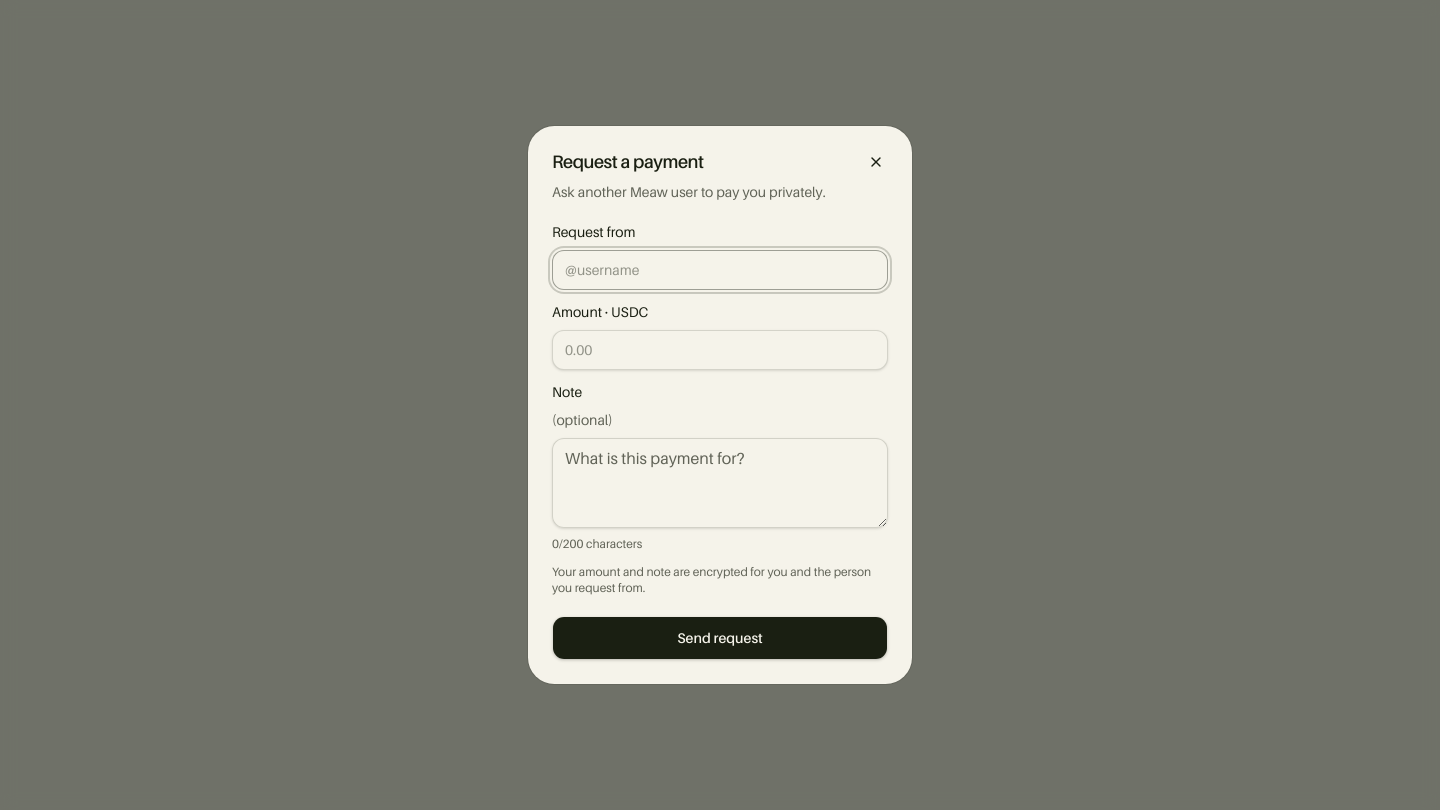
Test: request creation dialog › requires a positive fixed amount
Type "client" into the field labelled "Request from". click: (720, 270)
box: [552,250,888,290]
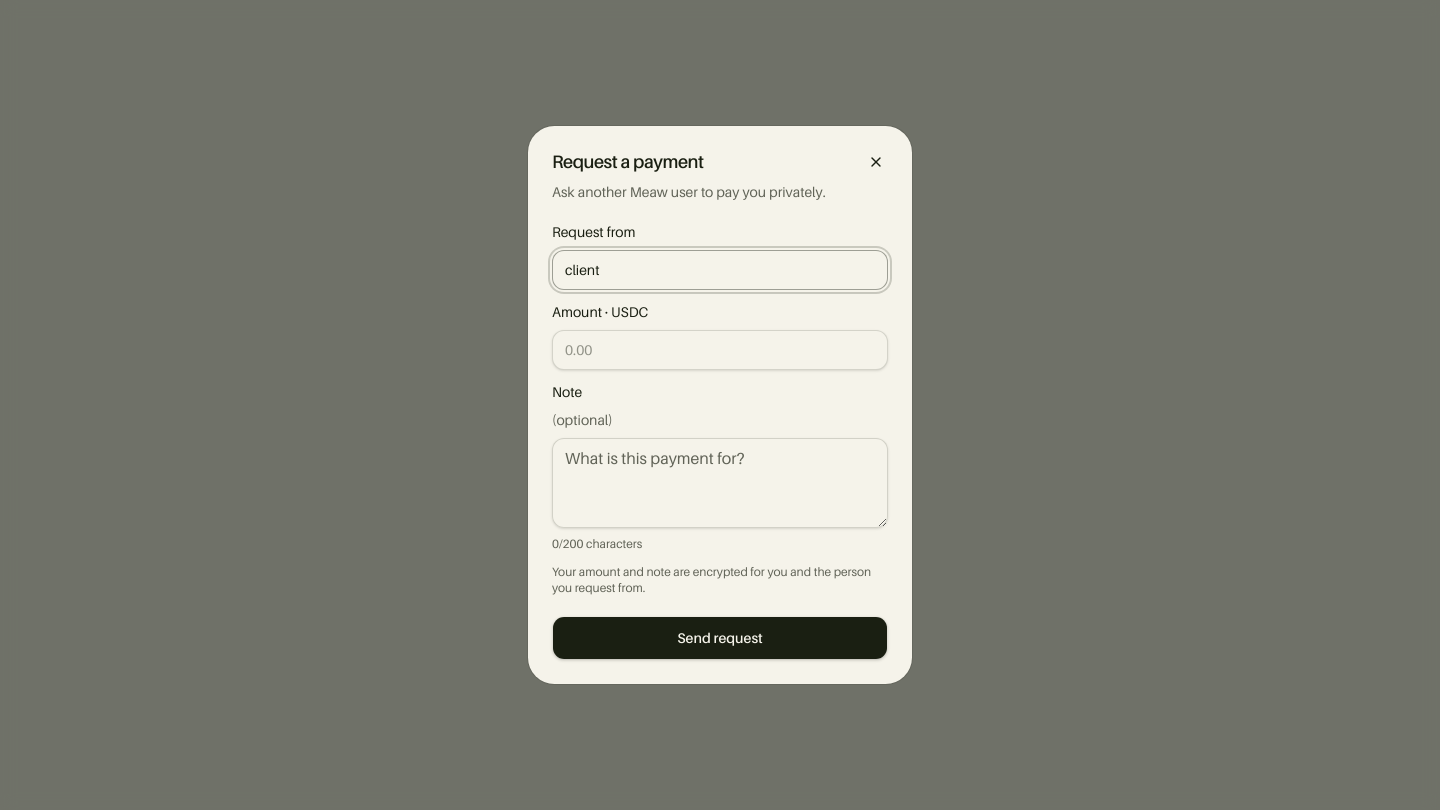
Type "0" into the field labelled "Amount · USDC". click: (720, 350)
box: [552,330,888,370]
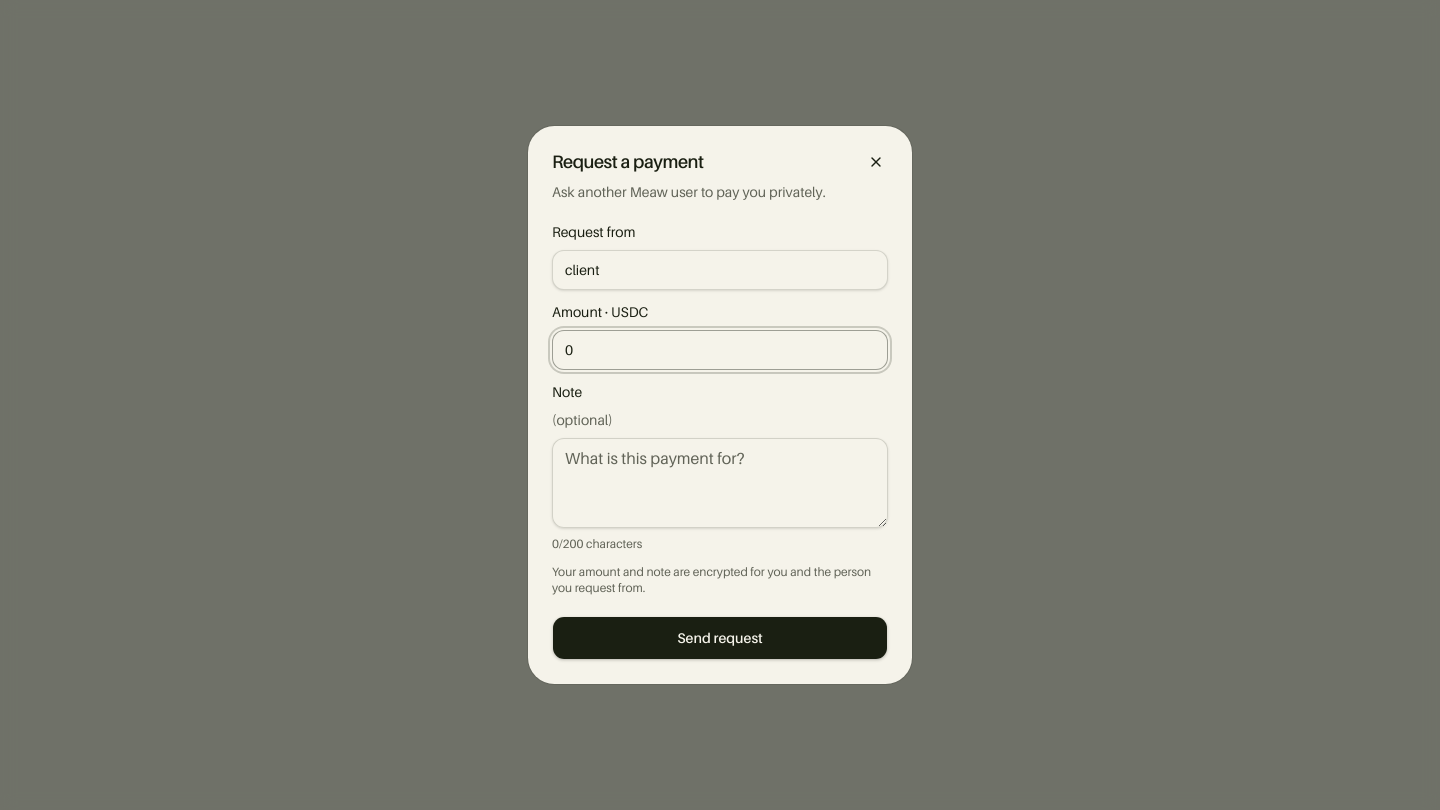
Click the button "Send request". click: (720, 638)
box: [552,616,888,660]
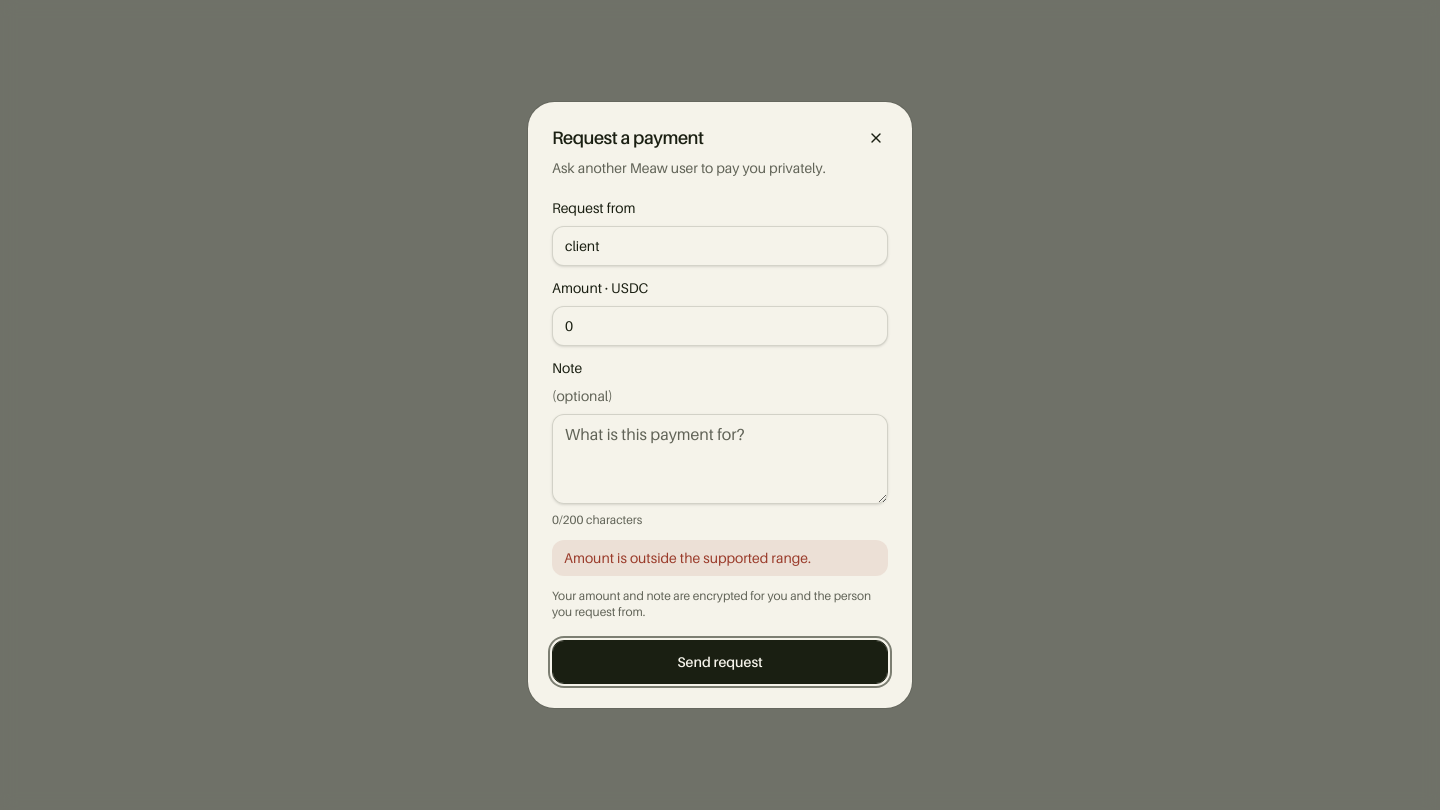
Expected: the text "Amount is outside the supported range." is shown, [552,540,888,576]
